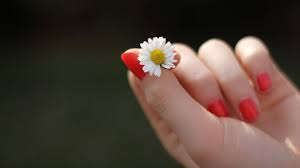hand: (101, 24, 291, 162)
